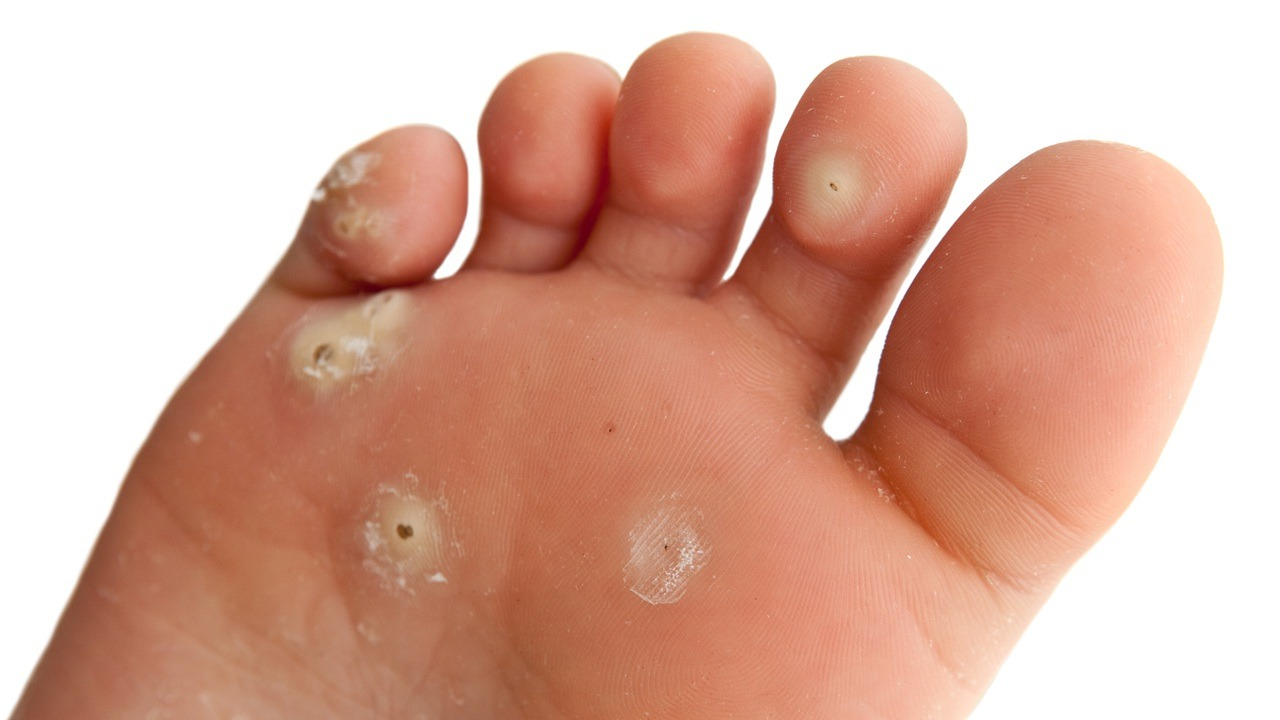Warts: (181, 150, 485, 370), (340, 457, 475, 622), (274, 275, 421, 409), (612, 485, 730, 624), (785, 153, 881, 234)
